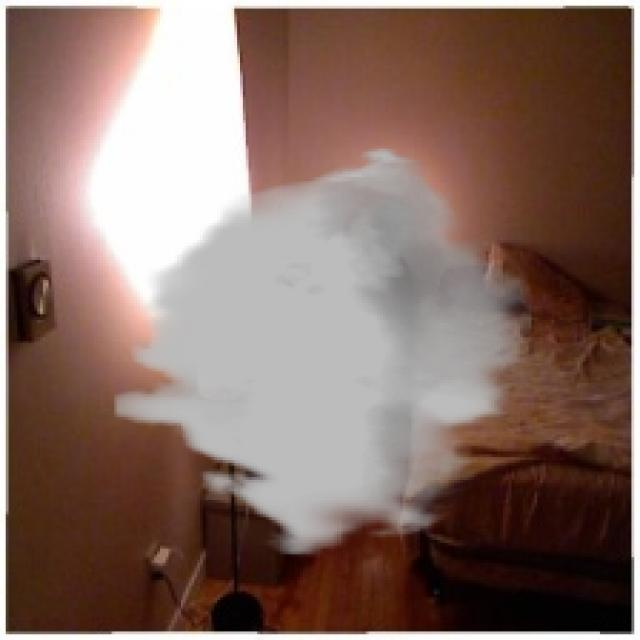smoke: (114, 146, 532, 557)
